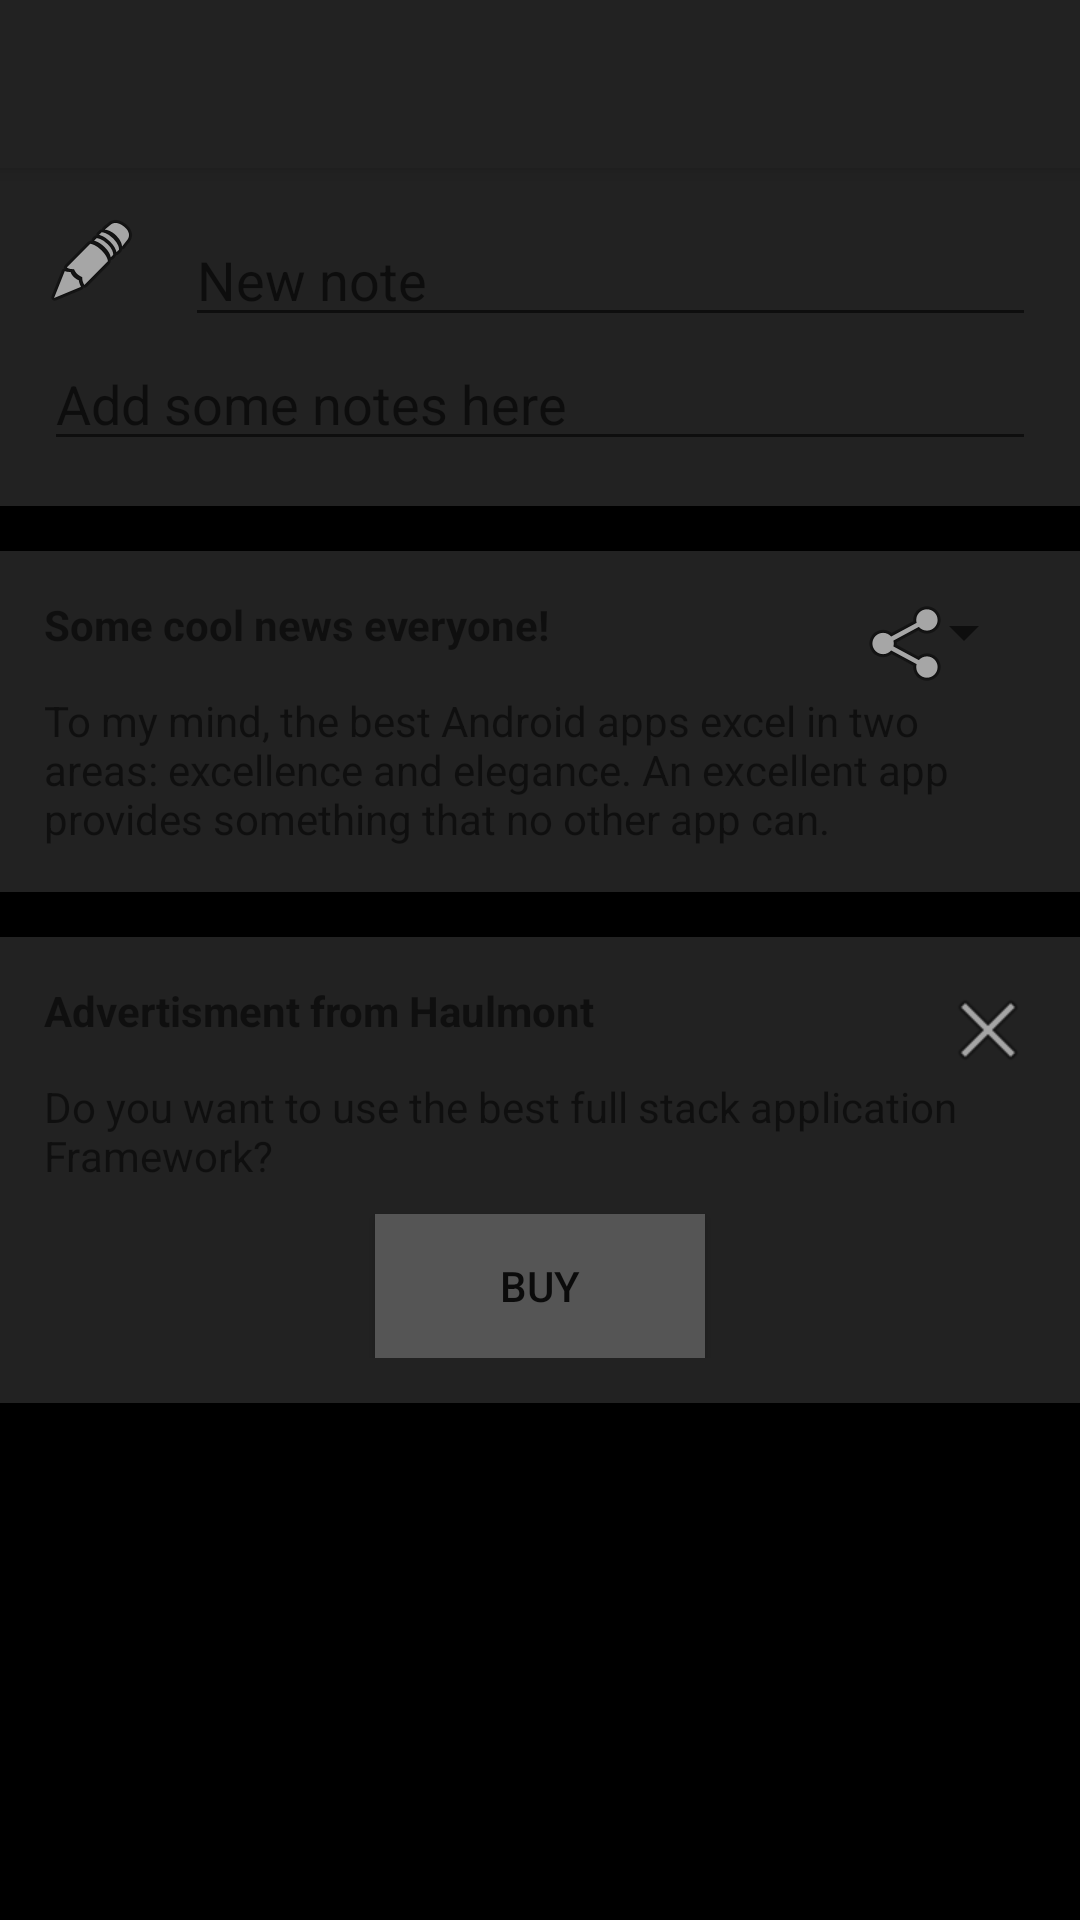

Icon bounding boxes for this 1080w x 1920h phone screenshot, format [x1,y1,x2,y2]:
close clear cancel: [961,1003,1015,1057]
edit: [54,223,129,298]
share: [872,609,938,678]
